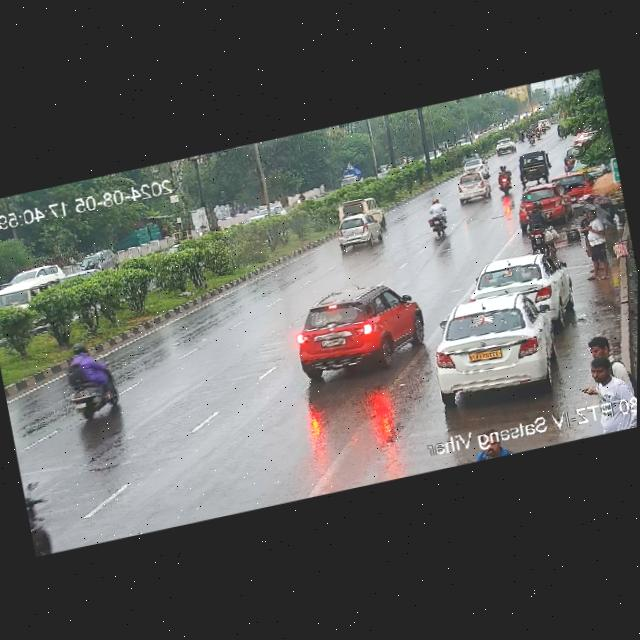car: (427, 284, 563, 402), (290, 274, 433, 384), (468, 246, 571, 329), (0, 258, 83, 316), (331, 213, 388, 255), (516, 183, 572, 225), (338, 194, 388, 234), (549, 167, 589, 205), (514, 150, 554, 186), (453, 170, 493, 206), (458, 153, 487, 174), (490, 138, 517, 158)
motorcycle: (57, 338, 123, 423), (21, 475, 58, 558), (525, 200, 558, 254), (426, 195, 453, 239), (566, 126, 597, 150), (496, 161, 516, 196)
person: (576, 327, 632, 399), (582, 211, 611, 280), (576, 206, 593, 235)
